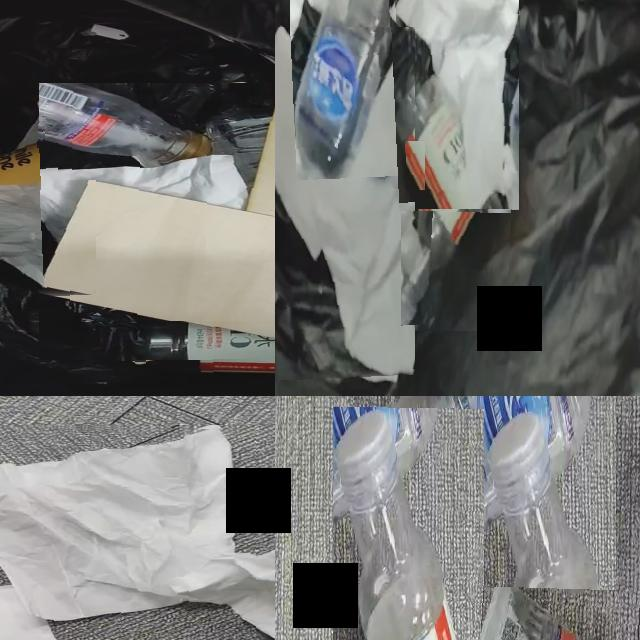bottle: (353, 396, 594, 587), (403, 75, 518, 329), (333, 408, 456, 640), (291, 0, 408, 183), (52, 322, 149, 376), (146, 336, 275, 373)
carton: (39, 111, 275, 343)
dixie_cup: (0, 143, 58, 187)
paper: (0, 428, 275, 638), (275, 27, 415, 377), (395, 0, 519, 209), (0, 180, 96, 297), (401, 212, 431, 326), (406, 142, 425, 190), (18, 116, 45, 149)
